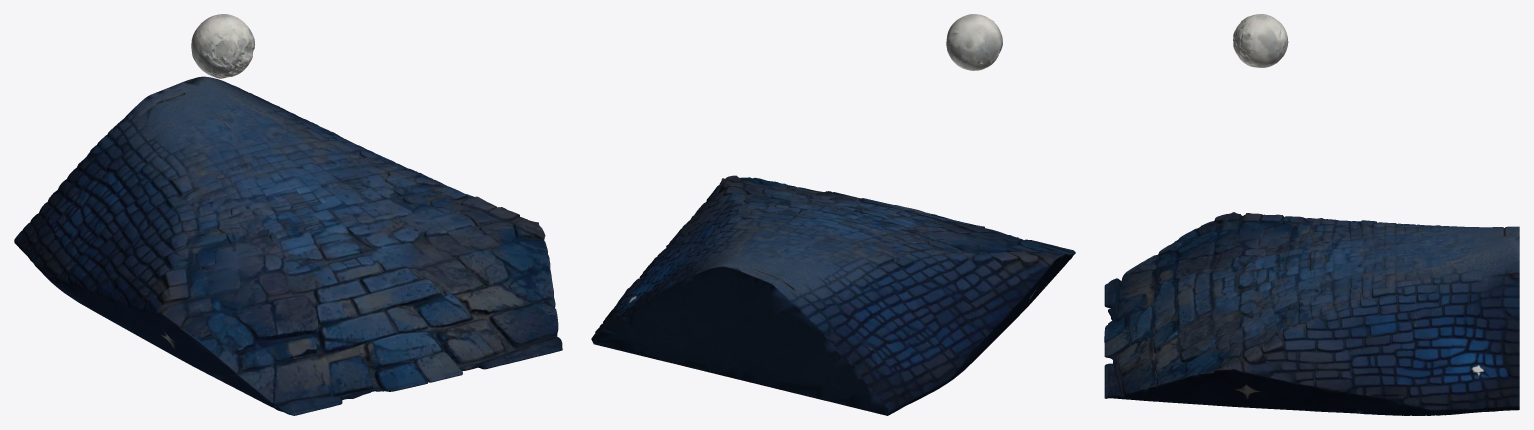
The model's file is pathway.glb.
3 renders of one model, left to right at view 1: azimuth 30°, elevation 25°; view 2: azimuth 150°, elevation 25°; view 3: azimuth 270°, elevation 25°, orthographic. The views are drawn at different scales.
Visible parts, largest first — view 1: geometry_0; view 2: geometry_0; view 3: geometry_0.
Part boxes in pixels (x1,y1,x2,y2): geometry_0: [14, 14, 562, 415]; geometry_0: [591, 14, 1075, 415]; geometry_0: [1104, 14, 1519, 415].
Size of the model in its own units: 0.8928 by 0.7449 by 0.9999.
1 material, 1 textured.
